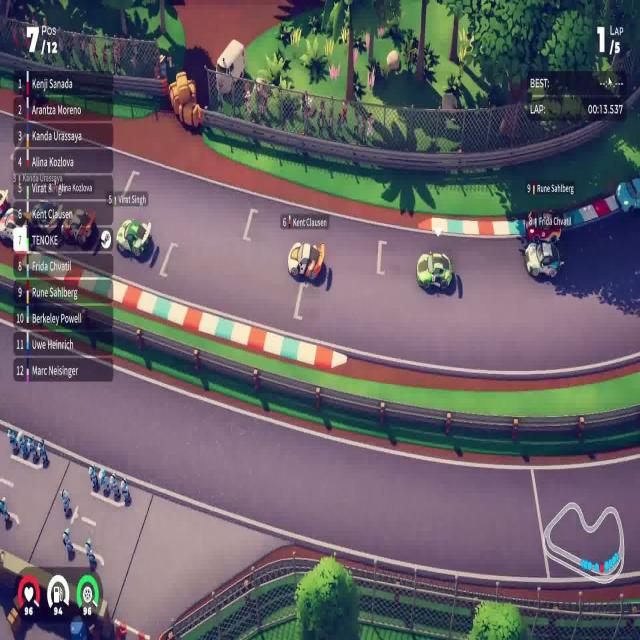car: (287, 240, 325, 284), (415, 250, 453, 292), (524, 238, 562, 279), (116, 217, 152, 259), (524, 208, 562, 244)
